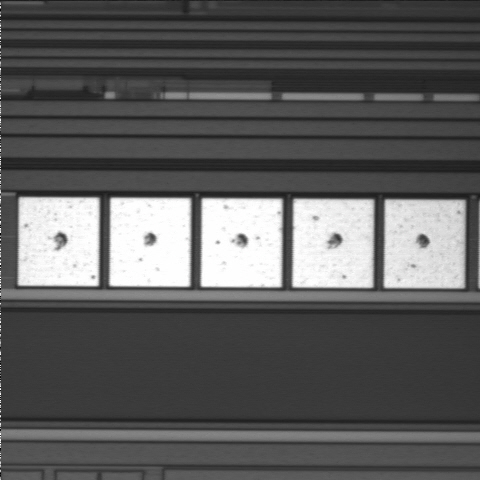pad: (109, 198, 191, 287), (292, 199, 374, 288), (18, 197, 99, 286), (201, 198, 282, 287), (384, 200, 465, 288)
